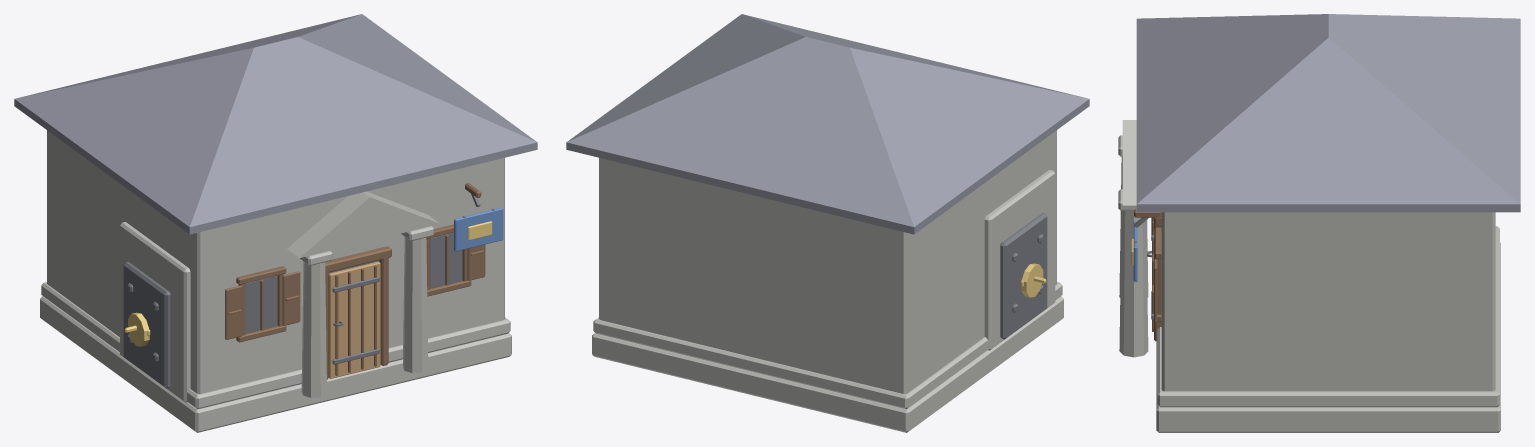
Rendered from town-bank.glb.
The picture shows the model from 3 angles, left to right: view 1: azimuth 30°, elevation 25°; view 2: azimuth 150°, elevation 25°; view 3: azimuth 270°, elevation 25°; orthographic projection. The views are drawn at different scales.
Parts seen in each view (by area): view 1: town-bank, vault/iron, door/wood, sign/blue, door/timber, vault/gold, door/iron; view 2: town-bank, vault/iron, vault/gold; view 3: town-bank.
Boxes of the visible parts, x1,y1,x2,y2 form: town-bank: [14, 14, 537, 432]; vault/iron: [123, 261, 170, 388]; door/wood: [328, 261, 380, 378]; sign/blue: [454, 207, 503, 251]; door/timber: [335, 265, 376, 375]; vault/gold: [124, 312, 150, 346]; door/iron: [332, 276, 379, 364]; town-bank: [566, 14, 1089, 432]; vault/iron: [1000, 212, 1047, 339]; vault/gold: [1020, 263, 1046, 297]; town-bank: [1118, 14, 1520, 432].
Bounding box in the file's own units: 8.14 × 6.42 × 7.23.
